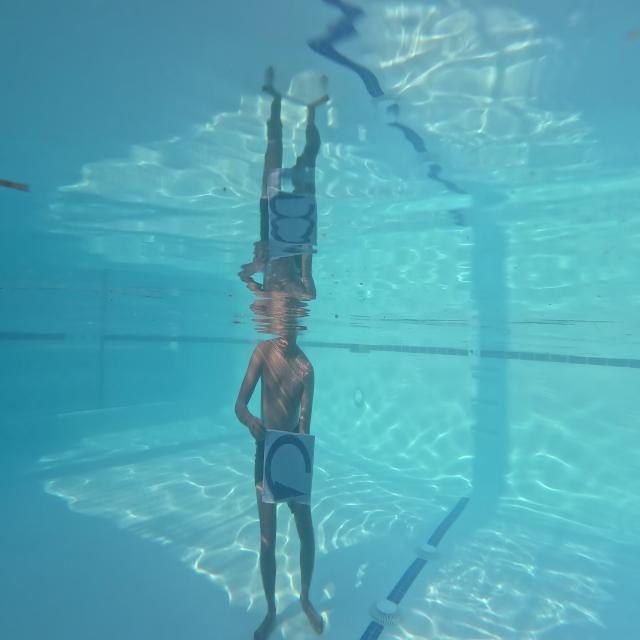blue_side: (264, 428, 314, 507)
